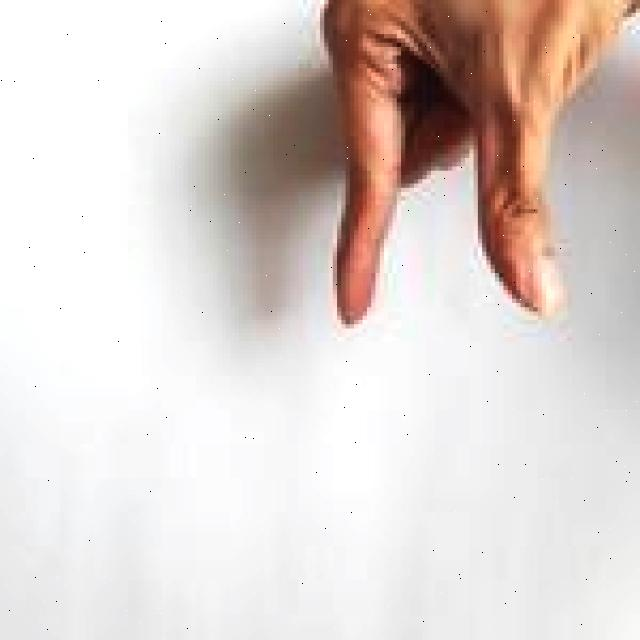Q: (314, 0, 640, 341)
